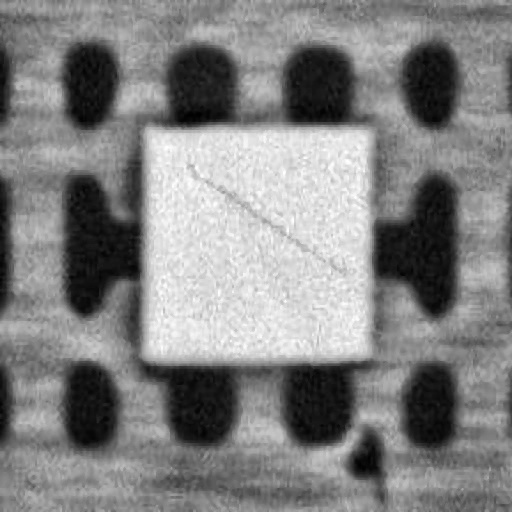DIE_CRACK: (276, 110, 512, 181)
